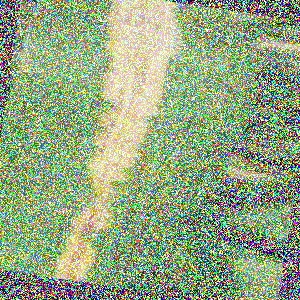Leaf_Blast: (55, 0, 202, 287)
